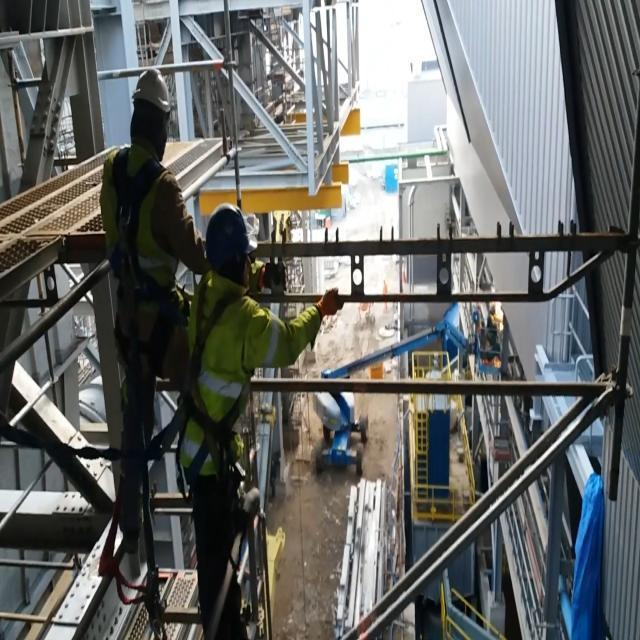Harness: (186, 271, 245, 435), (109, 147, 163, 290)
